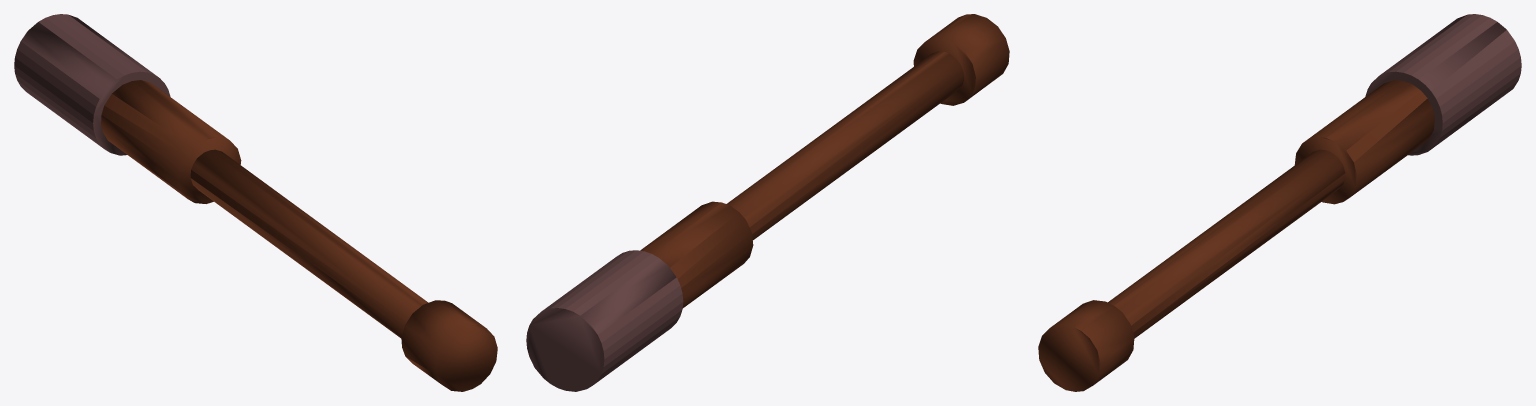
Rendered from IVMainGun.obj.
The picture shows the model from 3 angles, left to right: view 1: azimuth 30°, elevation 25°; view 2: azimuth 150°, elevation 25°; view 3: azimuth 330°, elevation 25°; orthographic projection.
Visible parts, largest first — view 1: 円柱.008; view 2: 円柱.008; view 3: 円柱.008.
Boxes of the visible parts, x1,y1,x2,y2 form: 円柱.008: (14,14,497,391); 円柱.008: (526,14,1009,391); 円柱.008: (1038,14,1521,391).
Size of the model in its own units: 0.4 by 0.4 by 3.67.
2 materials, 2 textured.
